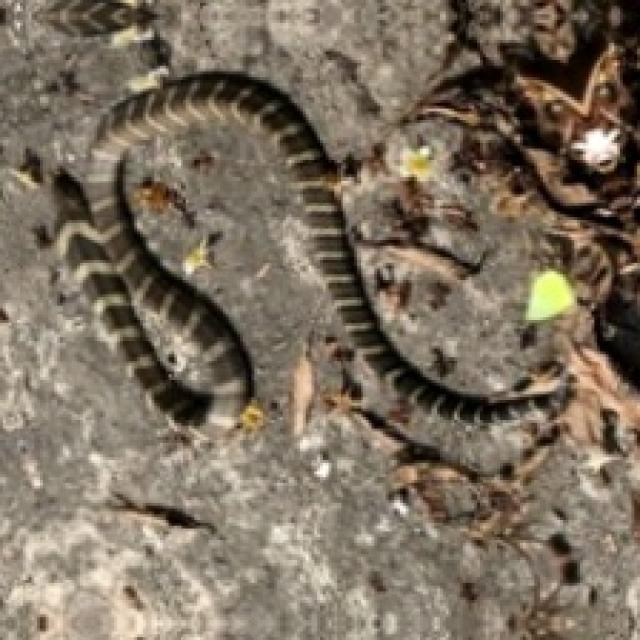king cobra: (57, 74, 563, 471)
